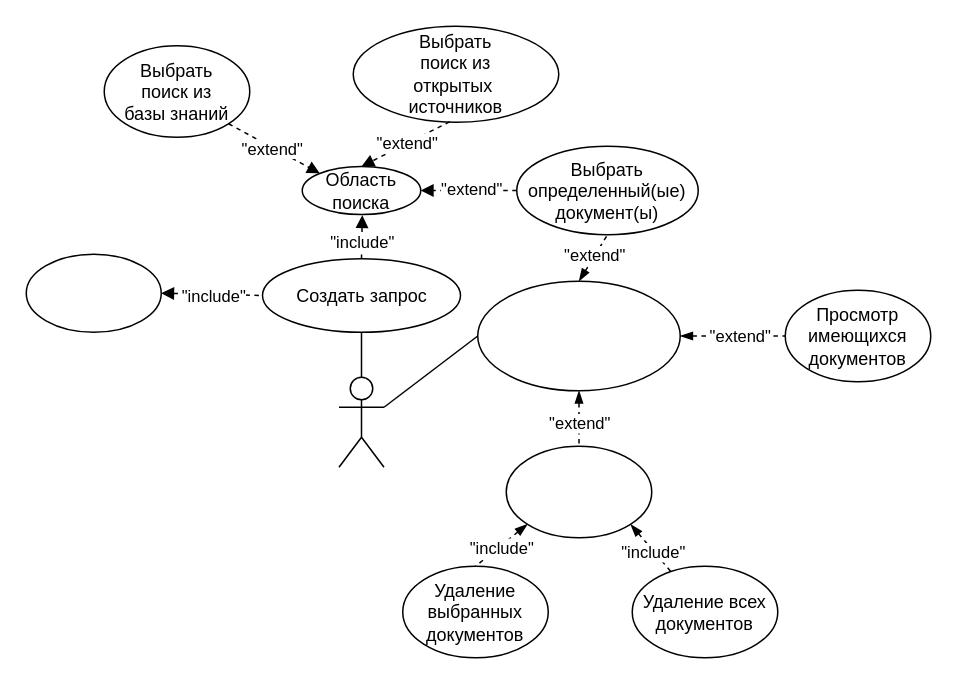
This 957x684 diagram has some shape labels left out. Each missing label, with the box of its shape:
Выбрать языковую модель: (25, 253, 161, 332)
Добавить документ\ подключить базу знаний: (476, 280, 680, 391)
Сотрудник: (338, 376, 384, 467)
Удаление документов: (505, 445, 652, 538)
